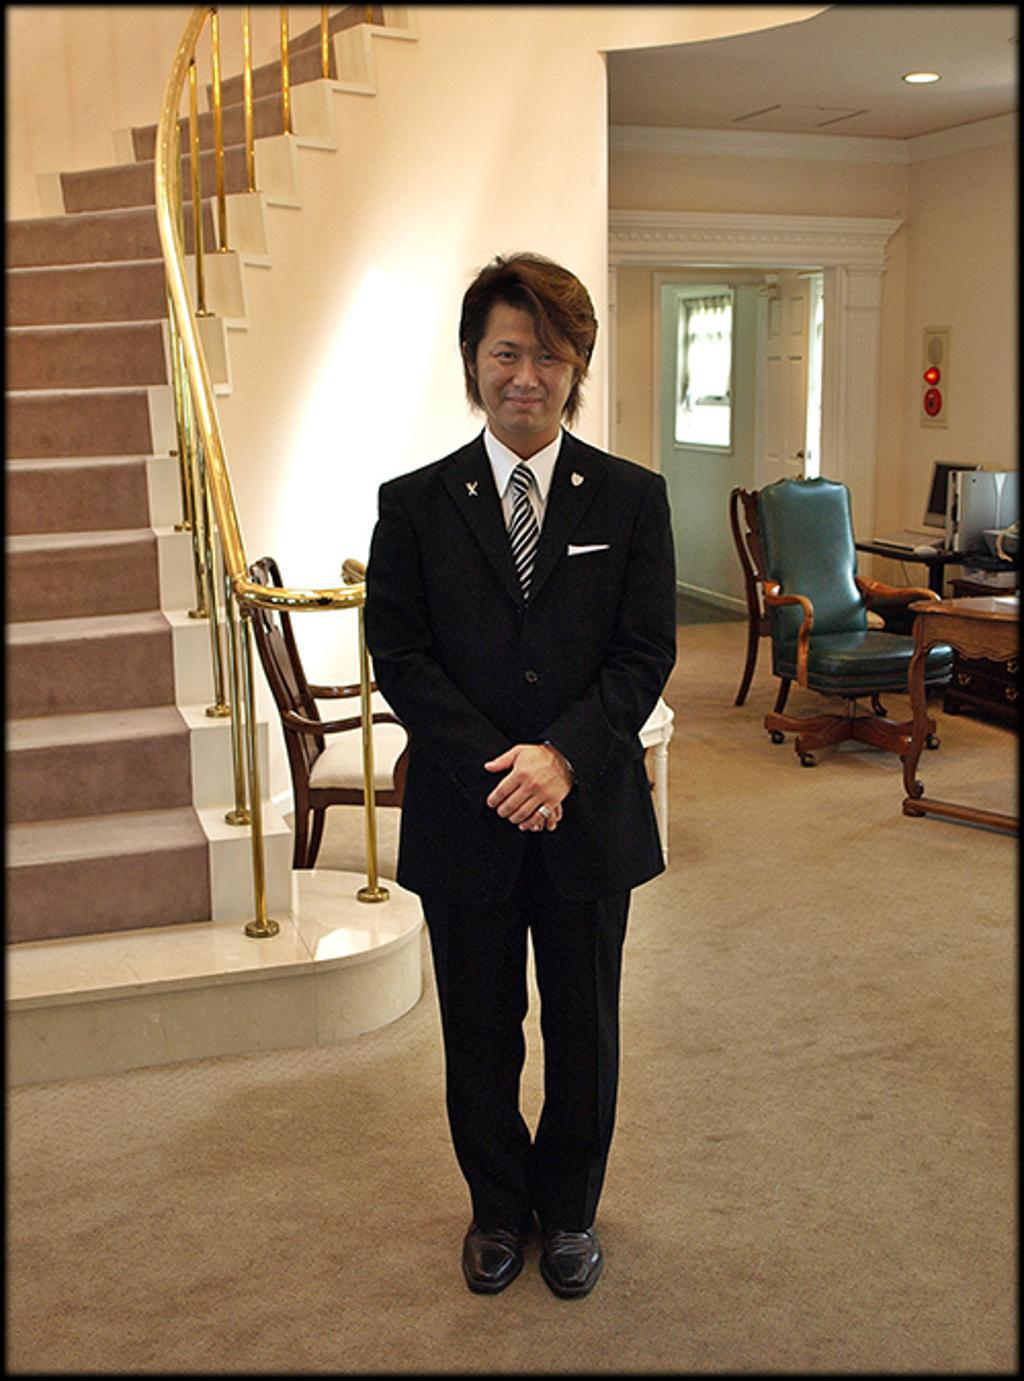face: (473, 289, 573, 435)
